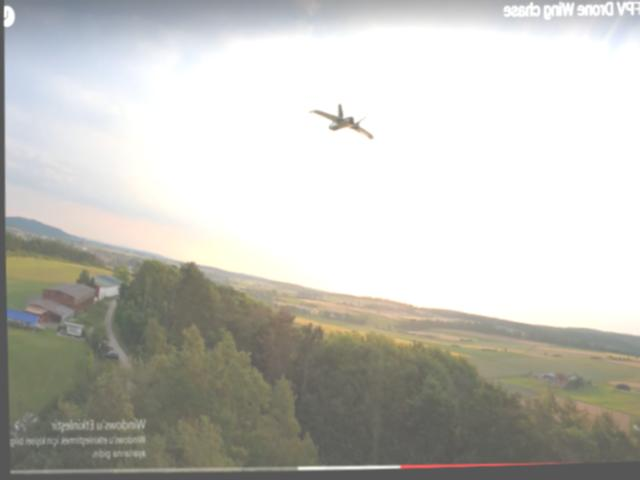plane: (307, 103, 373, 146)
